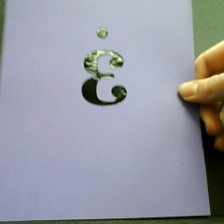violet3: (76, 24, 132, 110)
